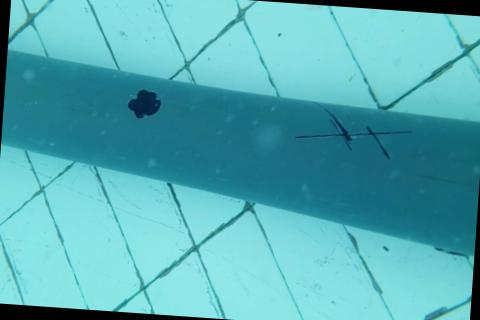kebocoran: (125, 84, 161, 122)
keretakan: (293, 106, 412, 160)
